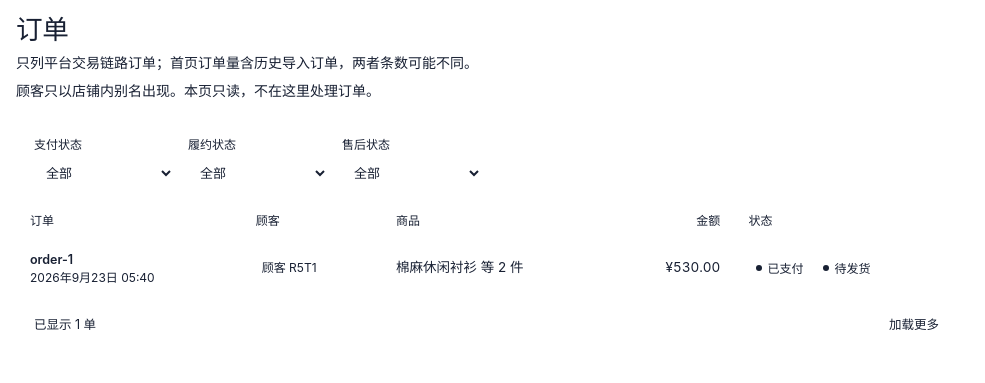
Test case: OrdersView › 切语言从第一页刷新，晚到的旧语言翻页不能混入新列表
The image size is (985, 383).
Step 1. Click the button with test id "orders-load-more" → (914, 325), box [878,310,950,340]
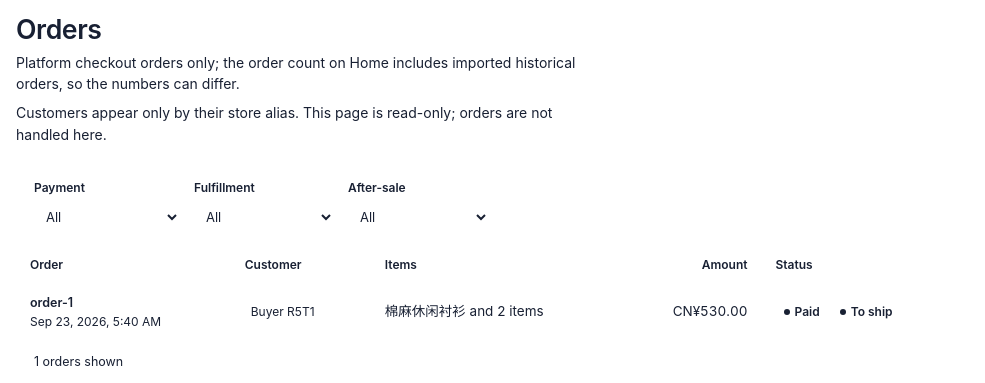
Expected: the number of rows with test id "order-row" is 1, [16,282,968,341]
Expected: the text "Buyer R5T1" is shown, [251,304,314,319]
